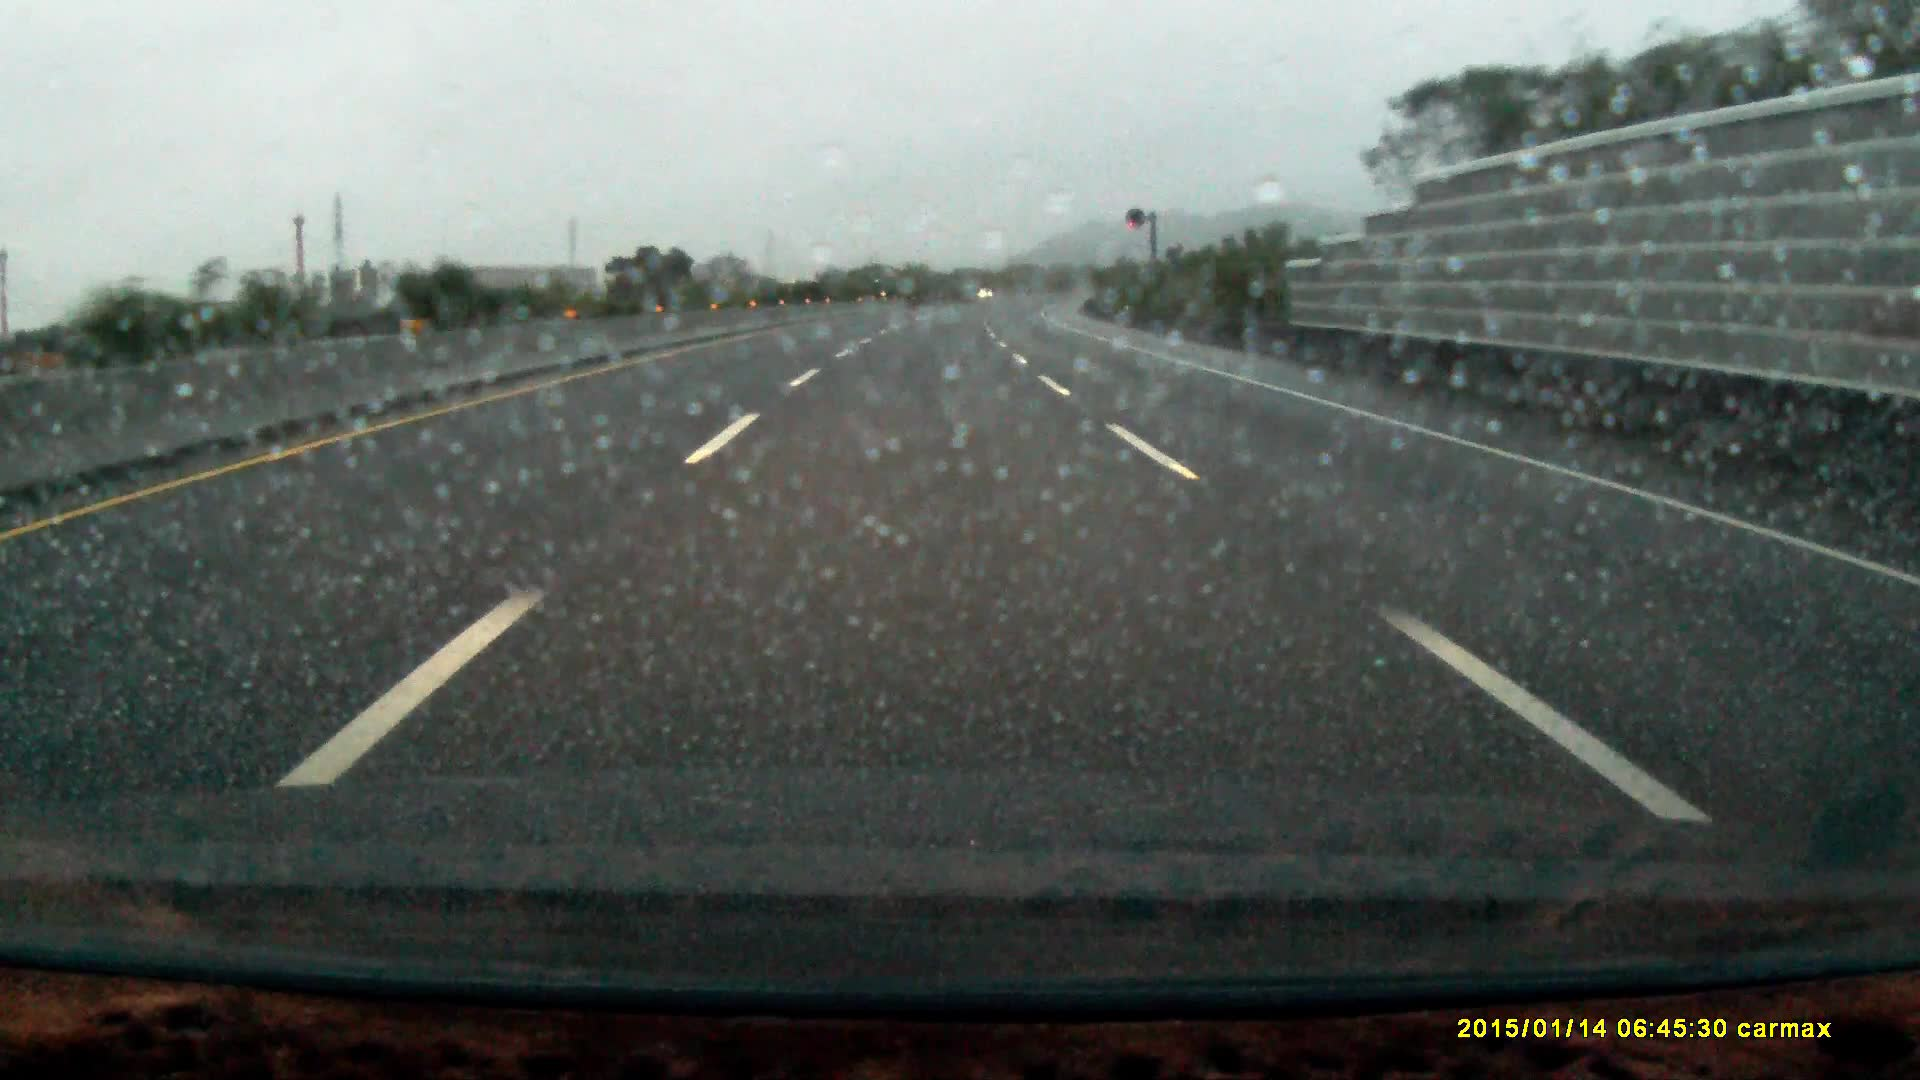vehicle: (866, 270, 905, 301)
